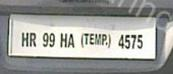4: (118, 34, 125, 49)
5: (137, 34, 144, 50), (125, 34, 131, 49)
7: (131, 35, 137, 49)
9: (42, 32, 49, 48), (49, 33, 56, 48)
A: (68, 33, 75, 49)
E: (89, 33, 95, 45)
H: (60, 32, 68, 48), (21, 32, 29, 47)
M: (95, 33, 102, 46)
P: (101, 34, 108, 46)
R: (30, 32, 37, 47)
T: (84, 33, 89, 45)
